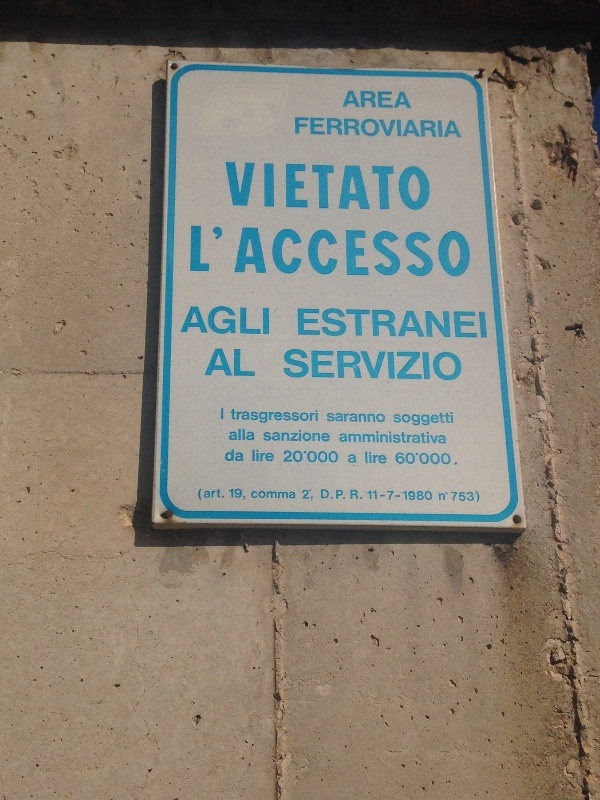text: (241, 162, 256, 213), (257, 162, 272, 213), (273, 162, 288, 213), (289, 162, 304, 213), (305, 162, 320, 213), (321, 162, 336, 213), (337, 162, 352, 213), (353, 162, 368, 213), (369, 162, 384, 213), (385, 162, 400, 213), (401, 162, 416, 213), (417, 162, 432, 213), (193, 226, 208, 277), (209, 226, 224, 277), (225, 226, 240, 277), (241, 226, 256, 277), (257, 226, 272, 277), (273, 226, 288, 277), (289, 226, 304, 277), (305, 226, 320, 277), (321, 226, 336, 277), (337, 226, 352, 277), (353, 226, 368, 277), (369, 226, 384, 277), (385, 226, 400, 277), (401, 226, 416, 277), (417, 226, 432, 277), (433, 226, 448, 277), (449, 226, 464, 277), (226, 162, 240, 213), (433, 162, 443, 213), (289, 349, 304, 382), (305, 349, 320, 382), (321, 349, 336, 382), (337, 349, 352, 382), (353, 349, 368, 382), (369, 349, 384, 382), (385, 349, 400, 382), (401, 349, 416, 382), (417, 349, 432, 382), (433, 349, 448, 382), (449, 349, 463, 382), (305, 309, 320, 338), (321, 309, 336, 338), (337, 309, 352, 338), (353, 309, 368, 338), (369, 309, 384, 338), (385, 309, 400, 338), (401, 309, 416, 338), (417, 309, 432, 338), (433, 309, 448, 338), (449, 309, 464, 338), (465, 309, 480, 338), (241, 349, 257, 376), (193, 307, 208, 335), (209, 307, 224, 335), (225, 307, 240, 335), (241, 307, 256, 335), (225, 349, 240, 376), (257, 307, 270, 335), (305, 117, 320, 138), (321, 117, 336, 138), (337, 117, 352, 138), (353, 117, 368, 138), (369, 117, 384, 138), (385, 117, 400, 138), (401, 117, 416, 138), (417, 117, 432, 138), (433, 117, 448, 138), (465, 226, 471, 277), (449, 117, 462, 138), (353, 91, 368, 109), (369, 91, 384, 109), (385, 91, 400, 109), (241, 409, 256, 425), (257, 409, 272, 425), (273, 409, 288, 425), (289, 409, 304, 425), (305, 409, 319, 425), (216, 349, 224, 376), (273, 428, 288, 442), (289, 428, 304, 442), (305, 428, 320, 442), (401, 412, 416, 426), (417, 412, 432, 426), (433, 412, 448, 426), (353, 431, 368, 445), (369, 431, 384, 445), (385, 431, 400, 445), (401, 431, 416, 445), (417, 431, 432, 445), (481, 309, 488, 338), (401, 91, 412, 109), (433, 431, 447, 445), (401, 452, 416, 465), (417, 452, 432, 465), (433, 452, 448, 465), (369, 451, 384, 464), (289, 450, 304, 463), (305, 450, 320, 463), (321, 450, 336, 463), (226, 449, 240, 462), (257, 450, 272, 462), (209, 488, 224, 500), (417, 490, 433, 501), (298, 309, 304, 338), (296, 117, 304, 138), (340, 431, 352, 445), (337, 489, 352, 500), (401, 490, 416, 501), (465, 491, 480, 502), (241, 429, 254, 441), (231, 409, 240, 425), (369, 414, 385, 423), (451, 491, 464, 502), (322, 489, 336, 499), (337, 414, 352, 423), (353, 414, 368, 423), (229, 429, 240, 441), (229, 489, 240, 501), (321, 428, 330, 442), (198, 488, 208, 500), (257, 491, 272, 499), (273, 491, 288, 499), (449, 452, 458, 465), (264, 428, 272, 442), (388, 491, 400, 500), (353, 490, 363, 500), (285, 349, 288, 382), (305, 489, 313, 501), (394, 412, 400, 426), (241, 489, 248, 501), (327, 414, 336, 423), (369, 490, 377, 500), (438, 493, 448, 501), (449, 412, 454, 426), (395, 452, 400, 465), (283, 450, 288, 463), (289, 491, 296, 499), (349, 91, 352, 109), (191, 226, 192, 277), (251, 491, 256, 499), (348, 454, 352, 464), (353, 454, 357, 464), (365, 451, 368, 464), (221, 408, 224, 420), (253, 450, 256, 462), (191, 307, 192, 335), (385, 451, 387, 464), (241, 449, 243, 462), (337, 450, 339, 463), (273, 450, 274, 462), (303, 489, 304, 501), (396, 495, 400, 498), (351, 490, 352, 500), (367, 490, 368, 500), (381, 495, 384, 497)
